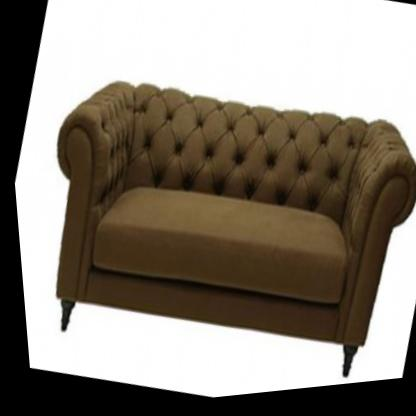Sofa: (5, 41, 416, 416)
